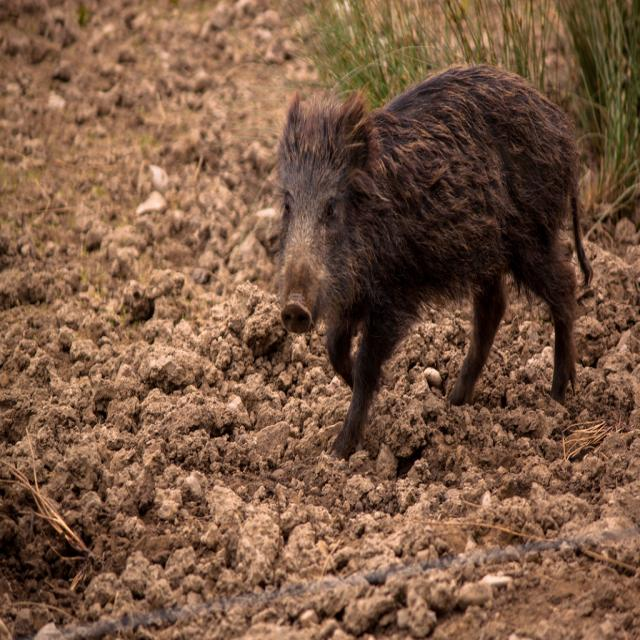Pig: (266, 59, 594, 465)
